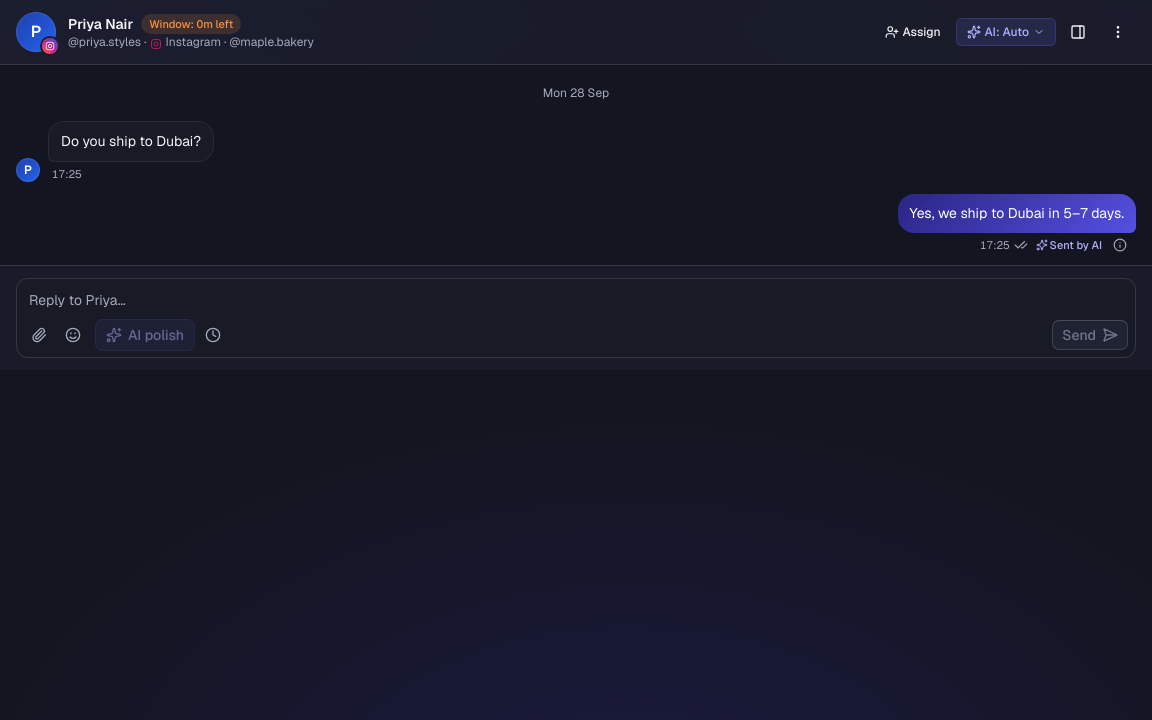
Scenario: Sent by AI (F-09, FR-SUG-04) › Should not have sent records bad feedback, and Undo clears it
Step 1. Click the button named "Why the AI sent this" → (1120, 244), box top-left (1108, 232), bottom-right (1132, 256)
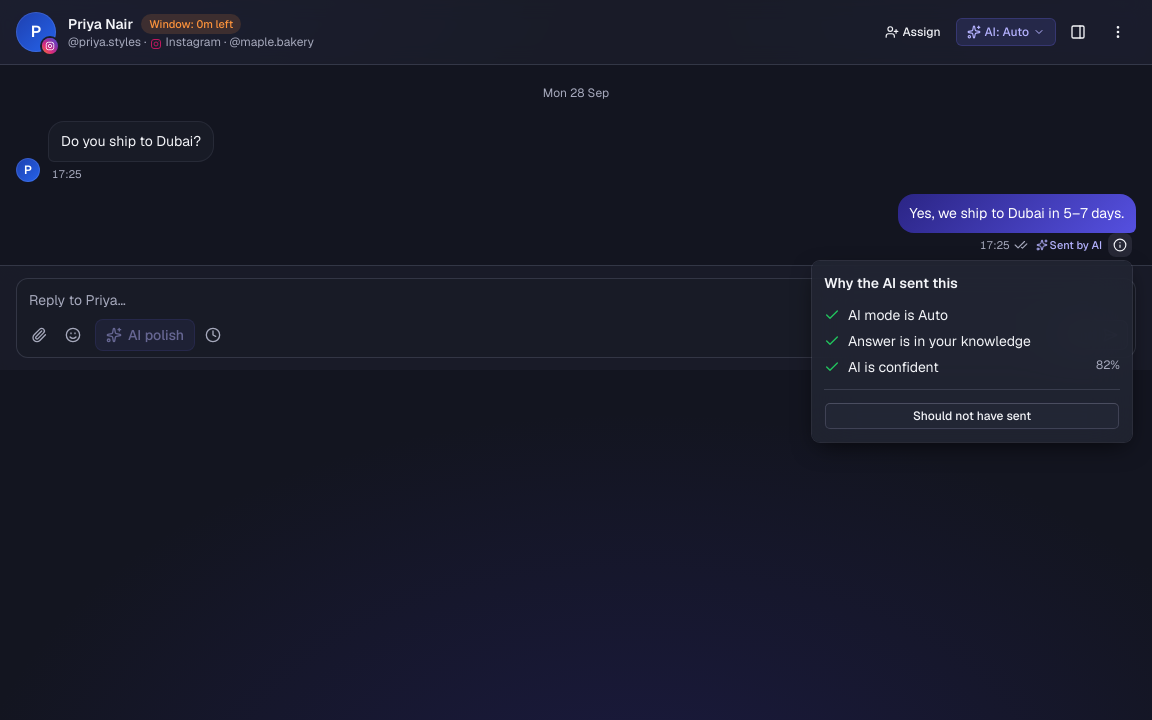
Step 2. Click the button "Should not have sent" → (972, 416), box top-left (824, 402), bottom-right (1120, 430)
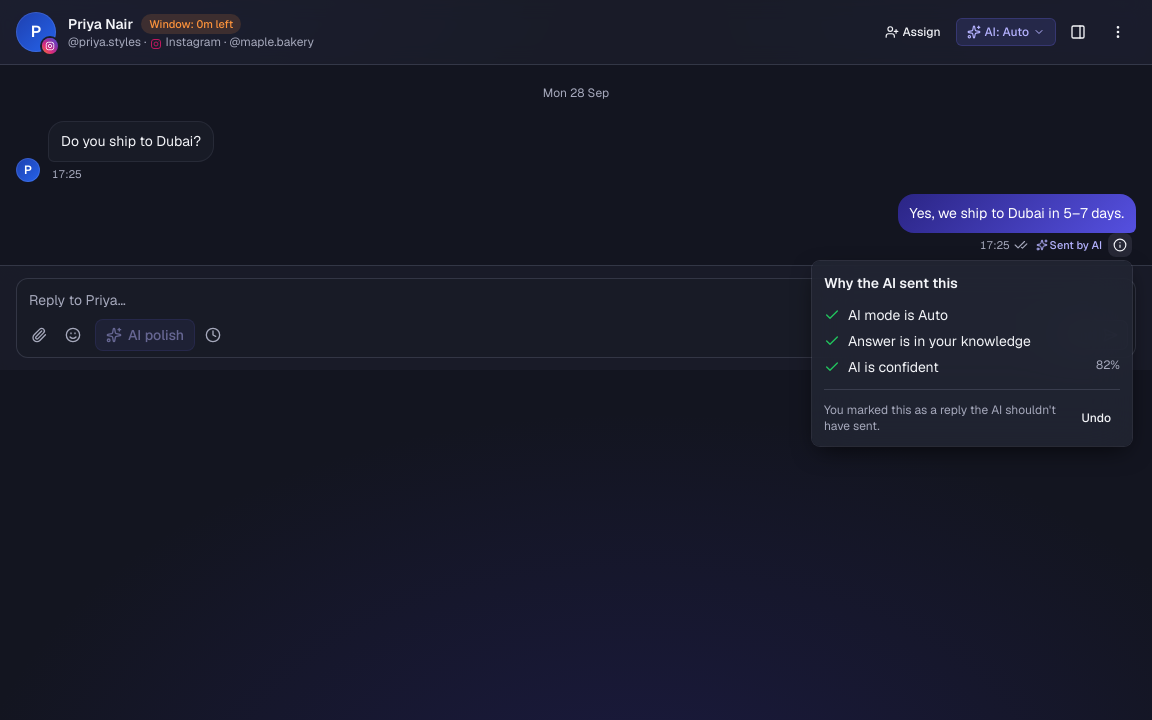
Result: the text "You marked this as a reply the AI shouldn't have sent." is shown at top-left (824, 402), bottom-right (1064, 434)
Step 3. Click the button "Undo" → (1096, 418), box top-left (1072, 406), bottom-right (1120, 430)
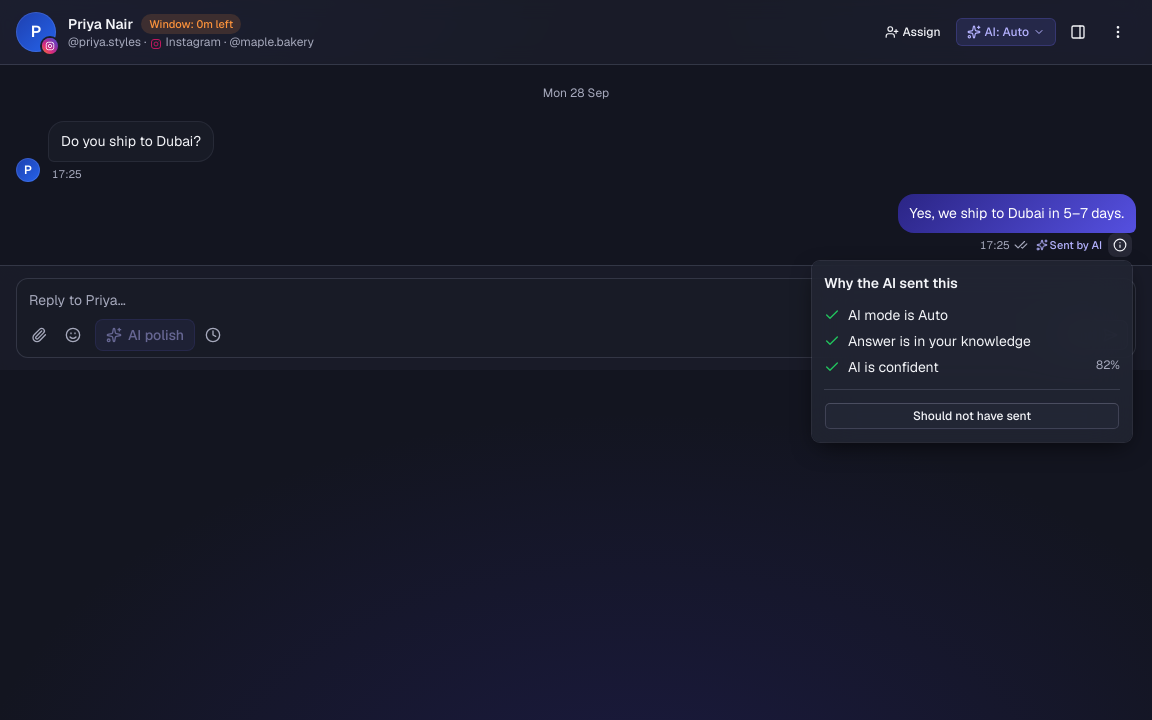
Result: the button "Should not have sent" is shown at top-left (824, 402), bottom-right (1120, 430)
